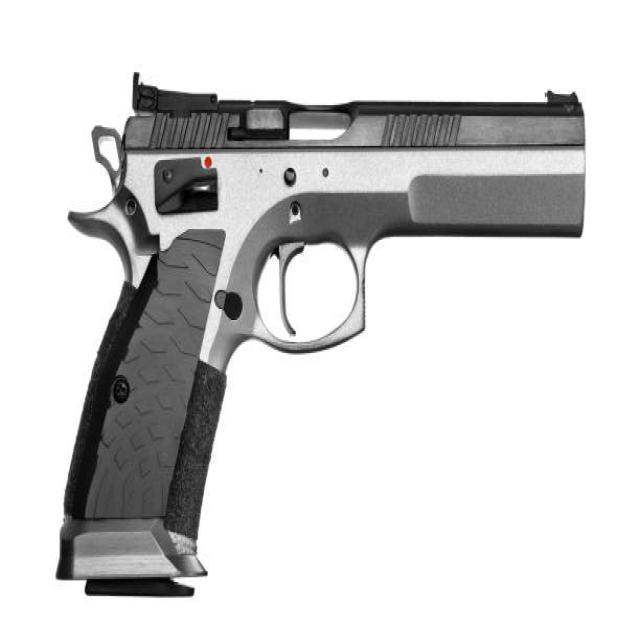pistol: (51, 69, 596, 610)
